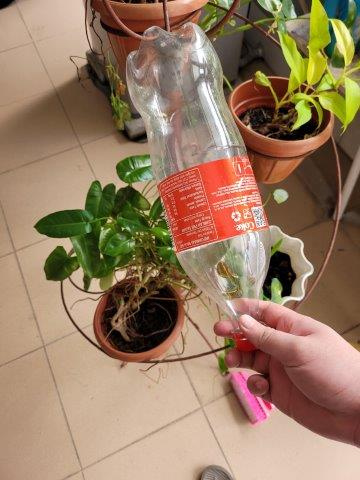botolplastik: (128, 24, 269, 330)
